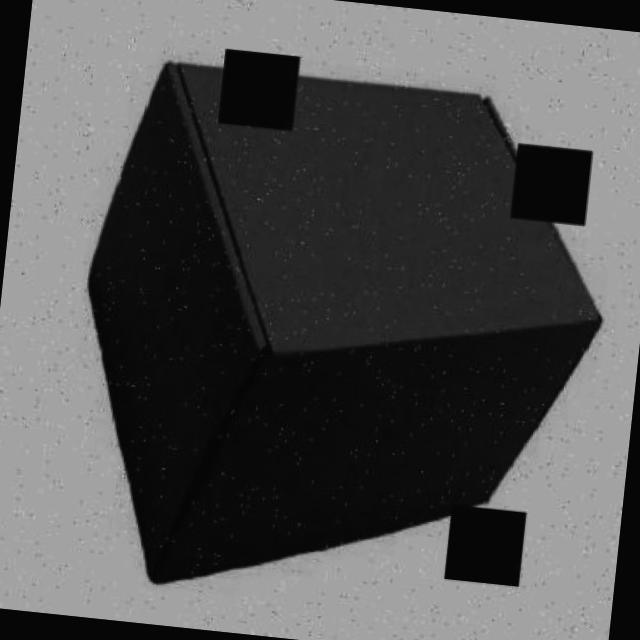box: (55, 44, 630, 632)
